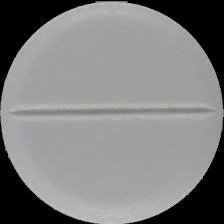33342-035: (0, 0, 224, 224)
